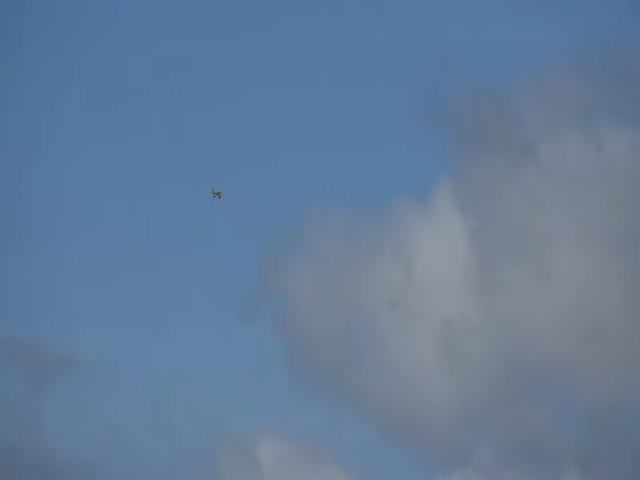plane: (210, 187, 222, 200)
